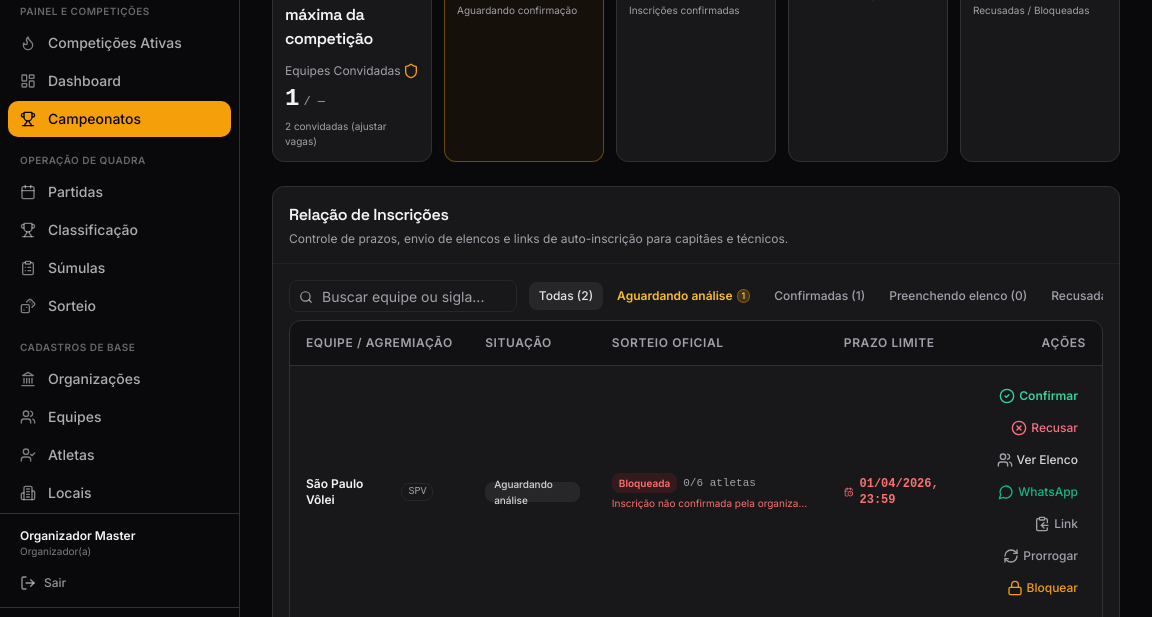
Test: CompetitionRegistrationsPage Component (Fase 4.2) › filtra as equipes por busca textual e botões de status
(page scrolled)
Check: the text "São Paulo Vôlei" is shown, box [306, 476, 363, 506]
# Busca textual
Type "Minas" into the field with placeholder "Buscar equipe ou sigla..." at (403, 296), box [289, 280, 517, 312]
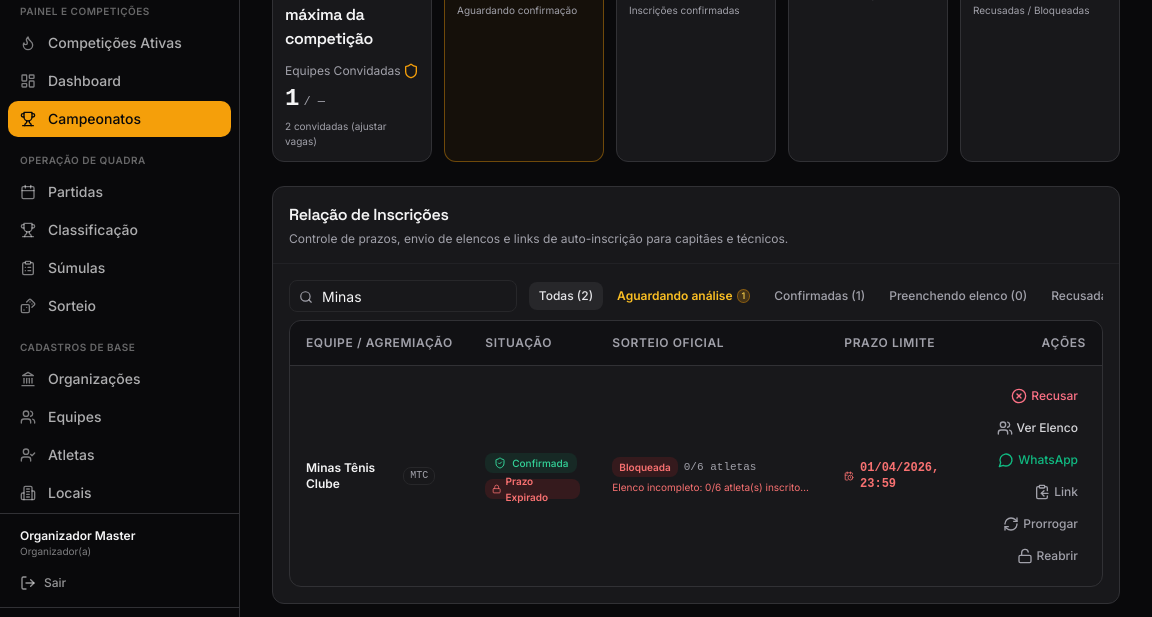
Check: the text "Minas Tênis Clube" is shown, box [306, 460, 375, 490]
Check: the button "São Paulo Vôlei" is gone
